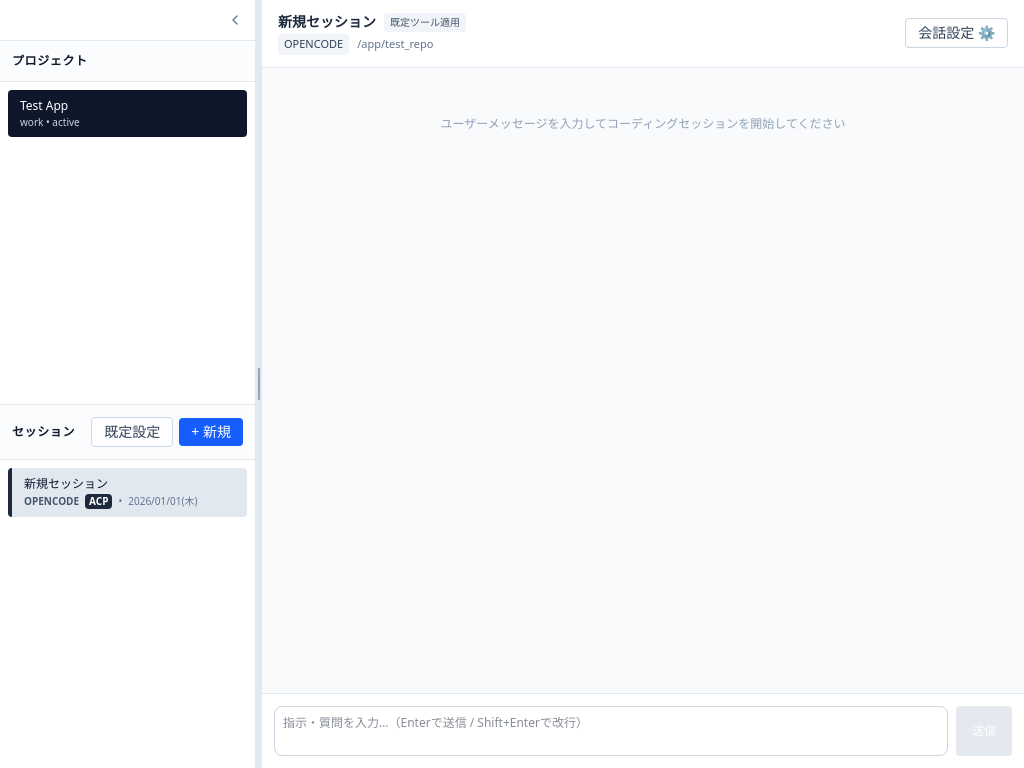
it: CodingPage send queue › removes a queued message without sending it
Type "first" into the text box with placeholder "指示・質問を入力…（Enterで送信 / Shift+Enterで改行）" at {"x": 611, "y": 731}, box top-left (274, 706), bottom-right (948, 756)
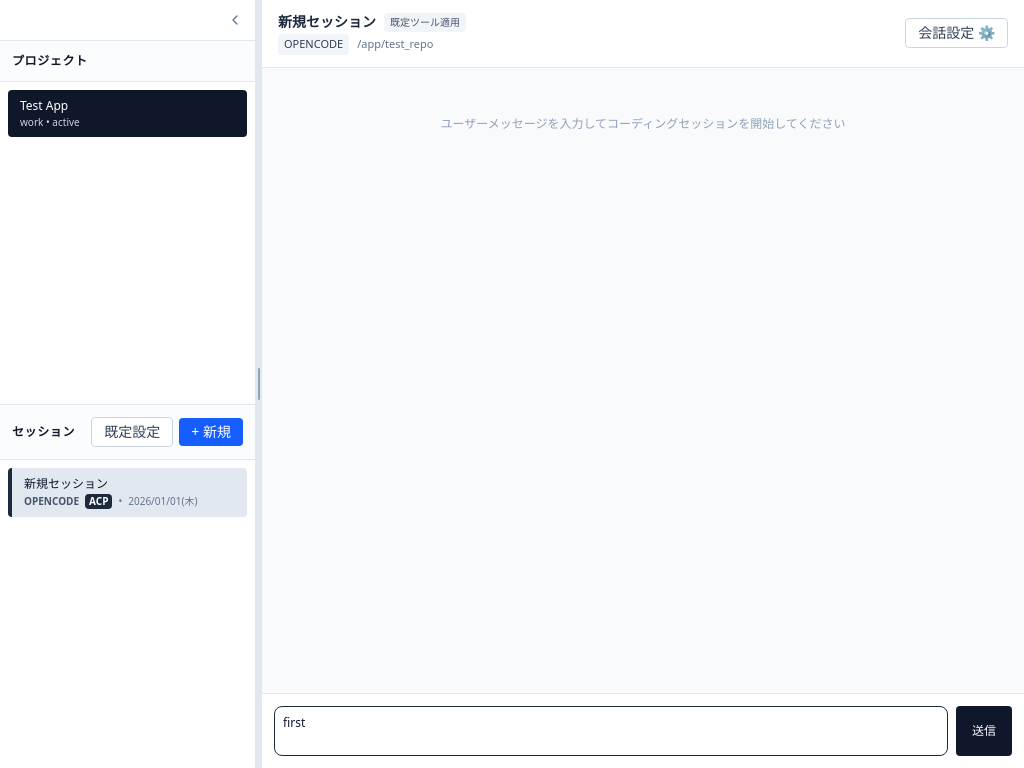
Click the button "送信" at {"x": 984, "y": 731}, box top-left (956, 706), bottom-right (1012, 756)
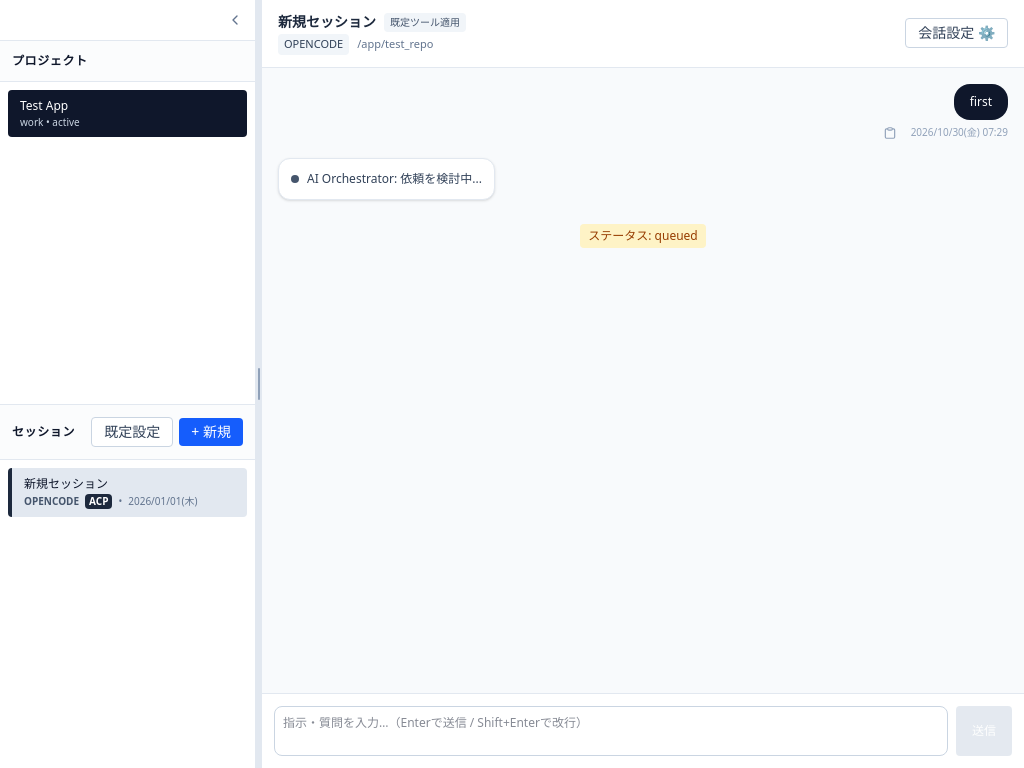
Type "drop me" into the text box with placeholder "指示・質問を入力…（Enterで送信 / Shift+Enterで改行）" at {"x": 611, "y": 731}, box top-left (274, 706), bottom-right (948, 756)
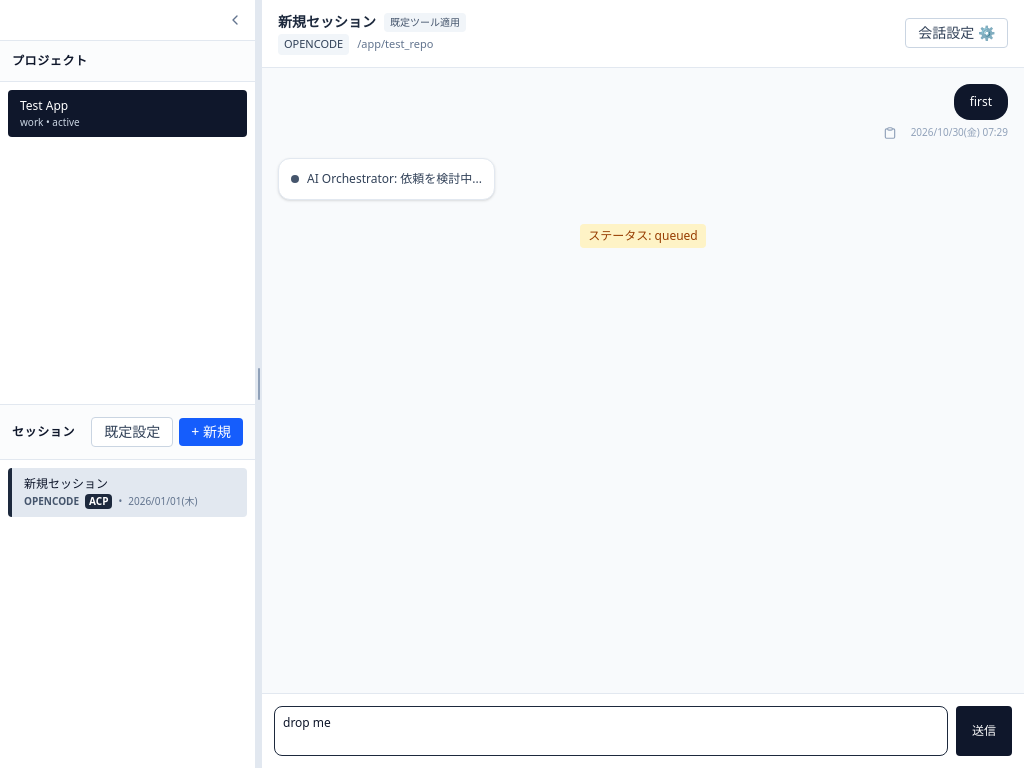
Click the button "送信" at {"x": 984, "y": 731}, box top-left (956, 706), bottom-right (1012, 756)
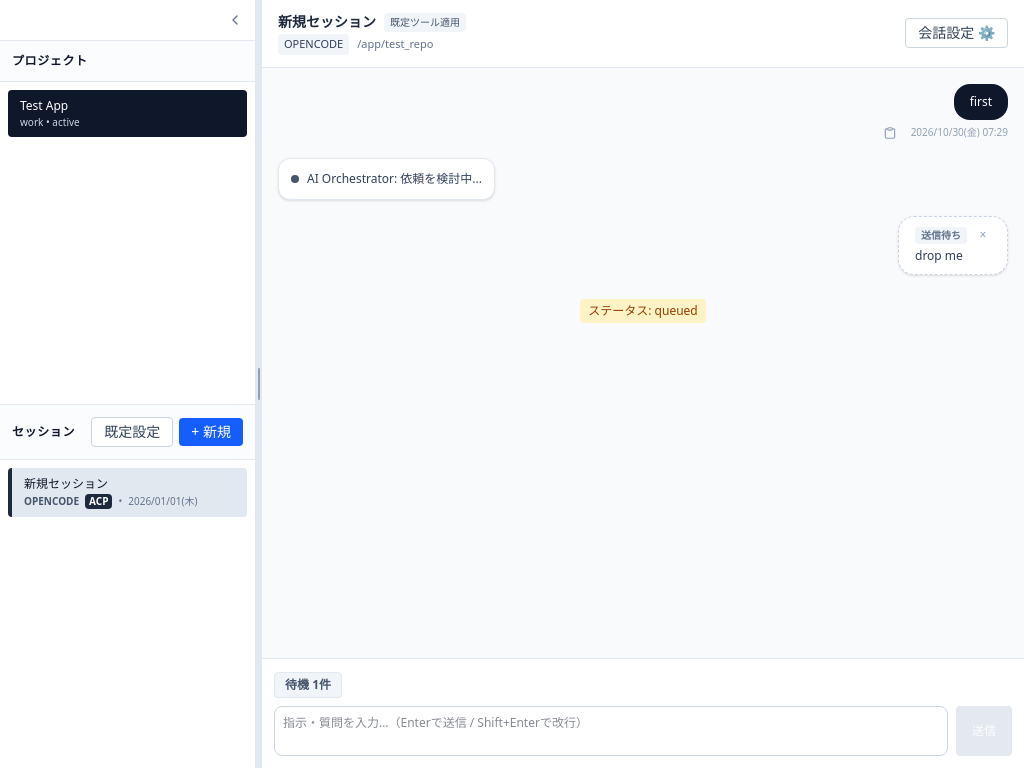
Check: the element with test id "coding-queued-messages" is shown, box top-left (898, 216), bottom-right (1008, 275)
Click the button named "送信待ちメッセージを削除" at {"x": 983, "y": 235}, box top-left (975, 227), bottom-right (991, 243)
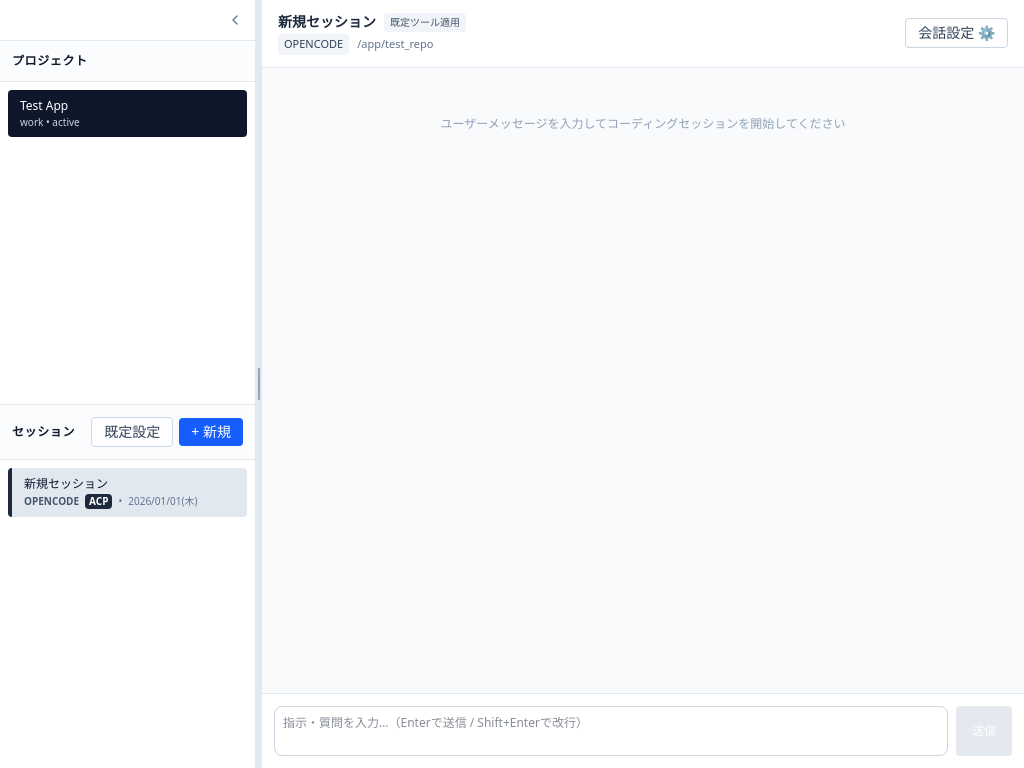
Check: the element with test id "coding-queued-messages" is gone
